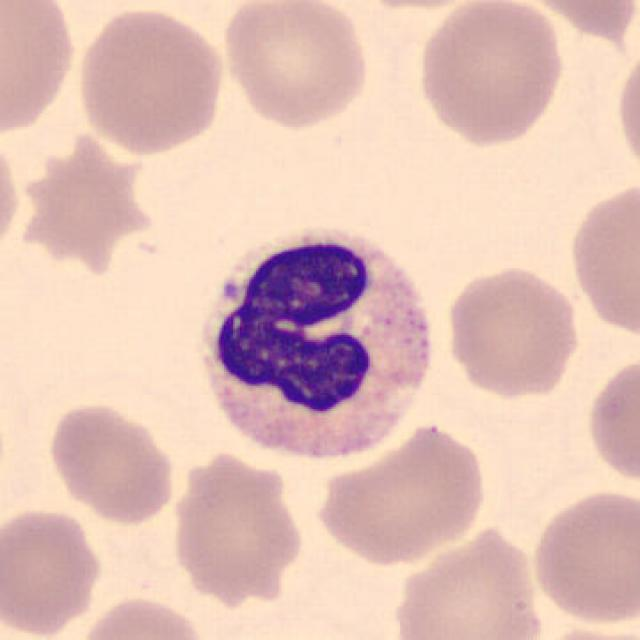Neutrophil: (185, 217, 444, 474)
RBC: (311, 418, 491, 568), (71, 3, 229, 157), (412, 0, 569, 148), (166, 446, 310, 605), (217, 0, 373, 132), (19, 133, 154, 281), (441, 263, 583, 402), (390, 522, 548, 640), (44, 398, 180, 526), (526, 485, 638, 628), (0, 502, 107, 638), (564, 175, 638, 342), (0, 0, 80, 141), (582, 349, 638, 490), (76, 590, 213, 640), (519, 0, 640, 39), (611, 36, 640, 183), (0, 125, 23, 265), (340, 0, 498, 14), (526, 622, 638, 640)
